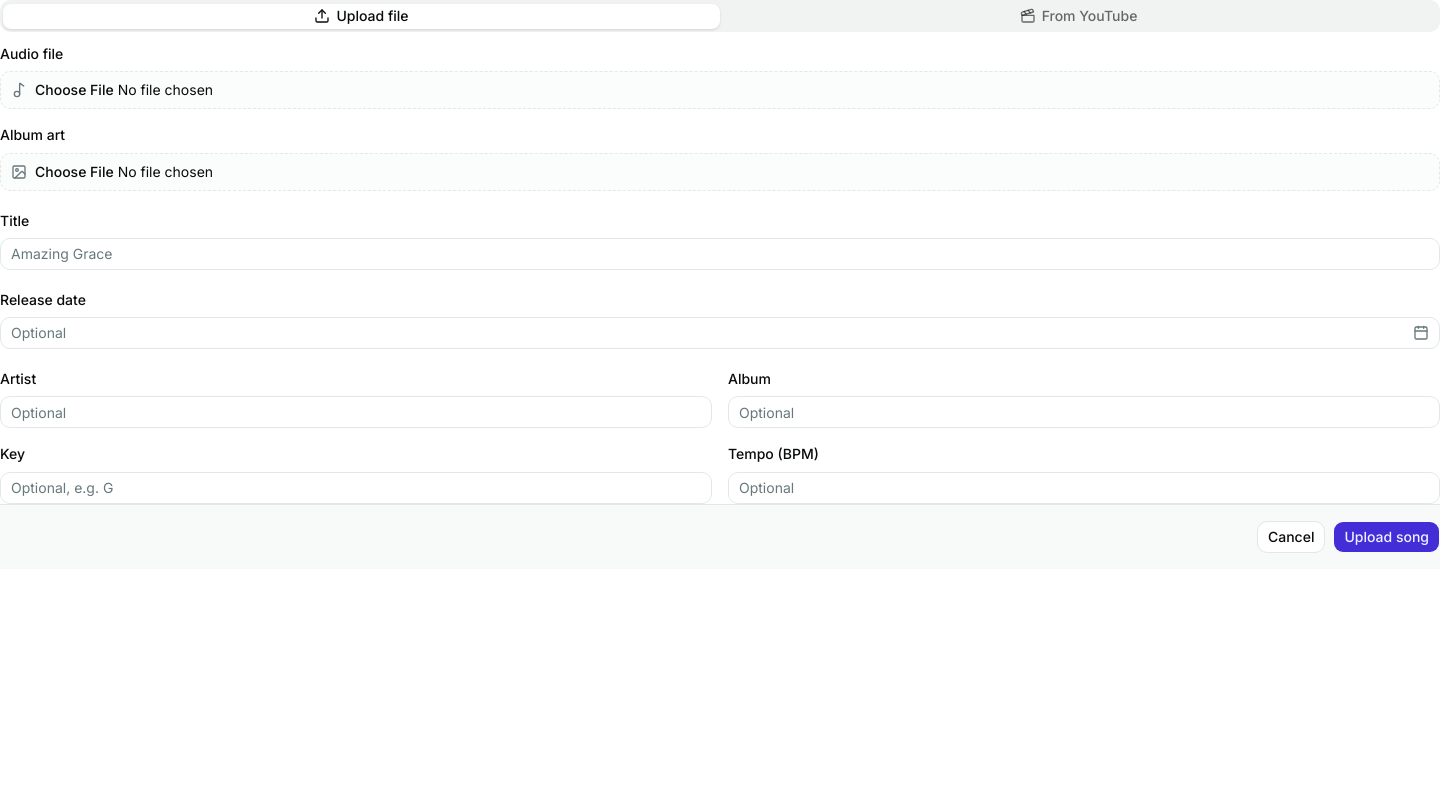
Test: SongUploadForm › clears the release date when the same day is clicked again
Click the button named "Release date": point(39, 332) x1=0 y1=317 x2=1439 y2=349
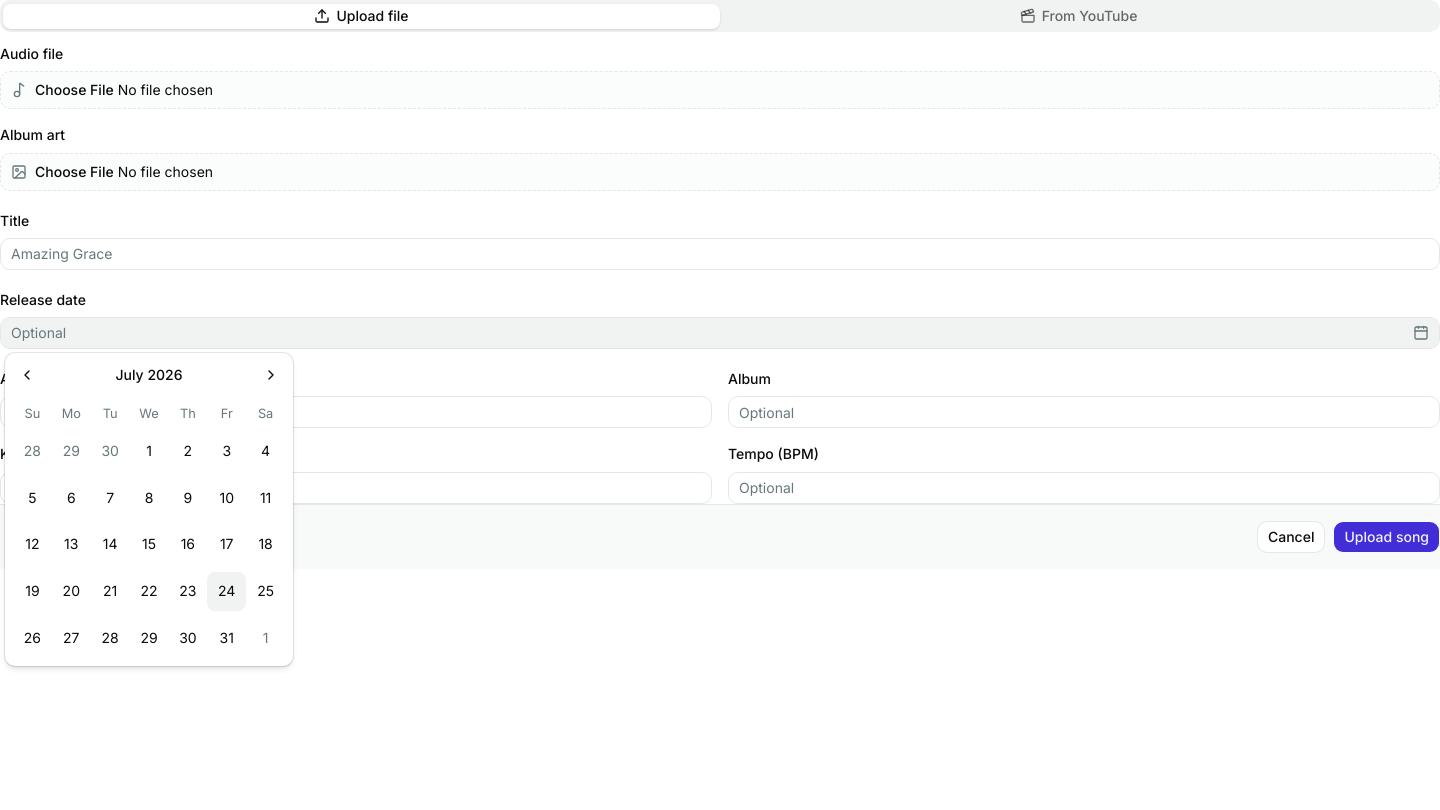
expect the table is shown: met, box x1=13 y1=405 x2=285 y2=658
Click the button "15": point(149, 544) x1=130 y1=525 x2=168 y2=564
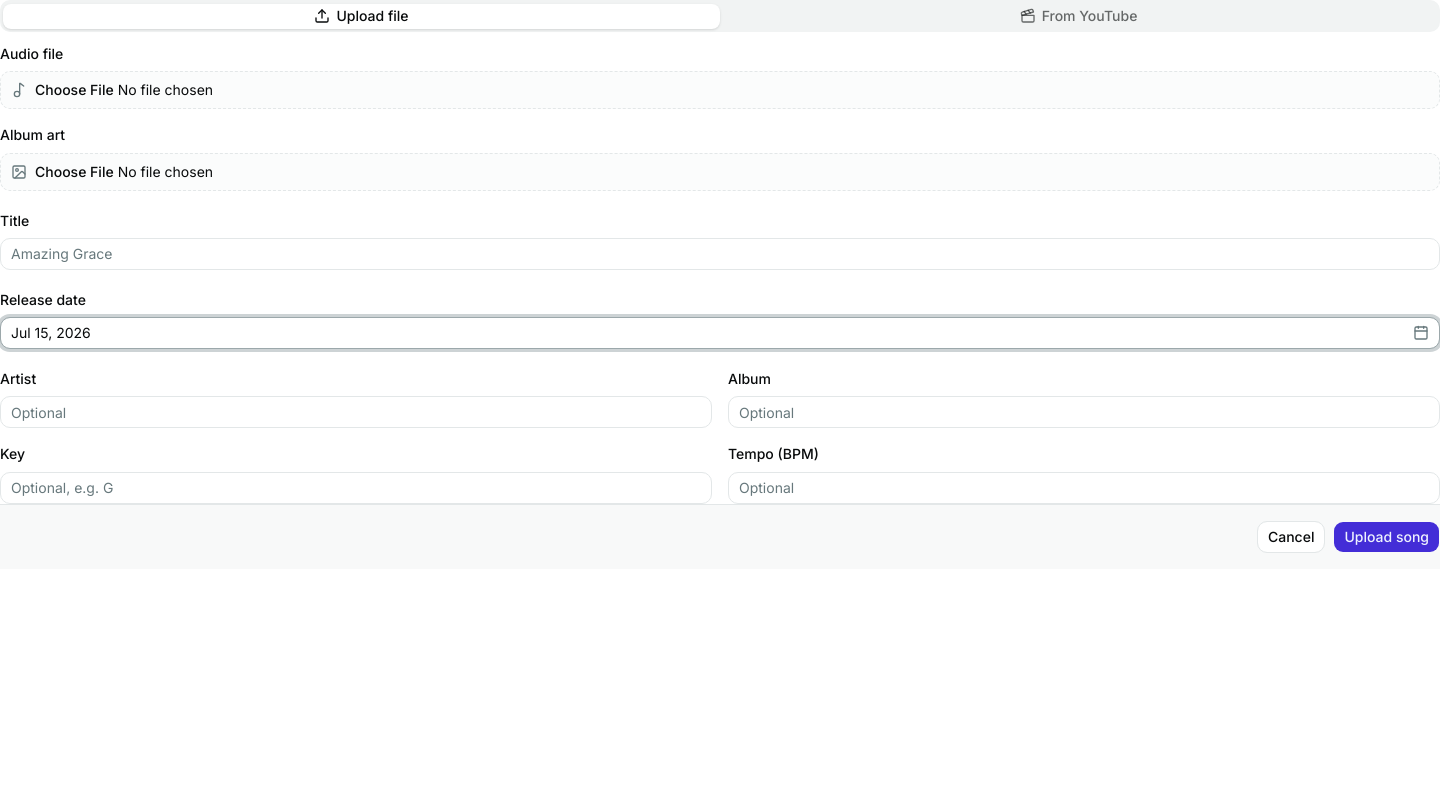
expect the button named "Release date" reads "Jul 15, 2026": met
Click the button named "Release date": point(51, 332) x1=0 y1=317 x2=1439 y2=349
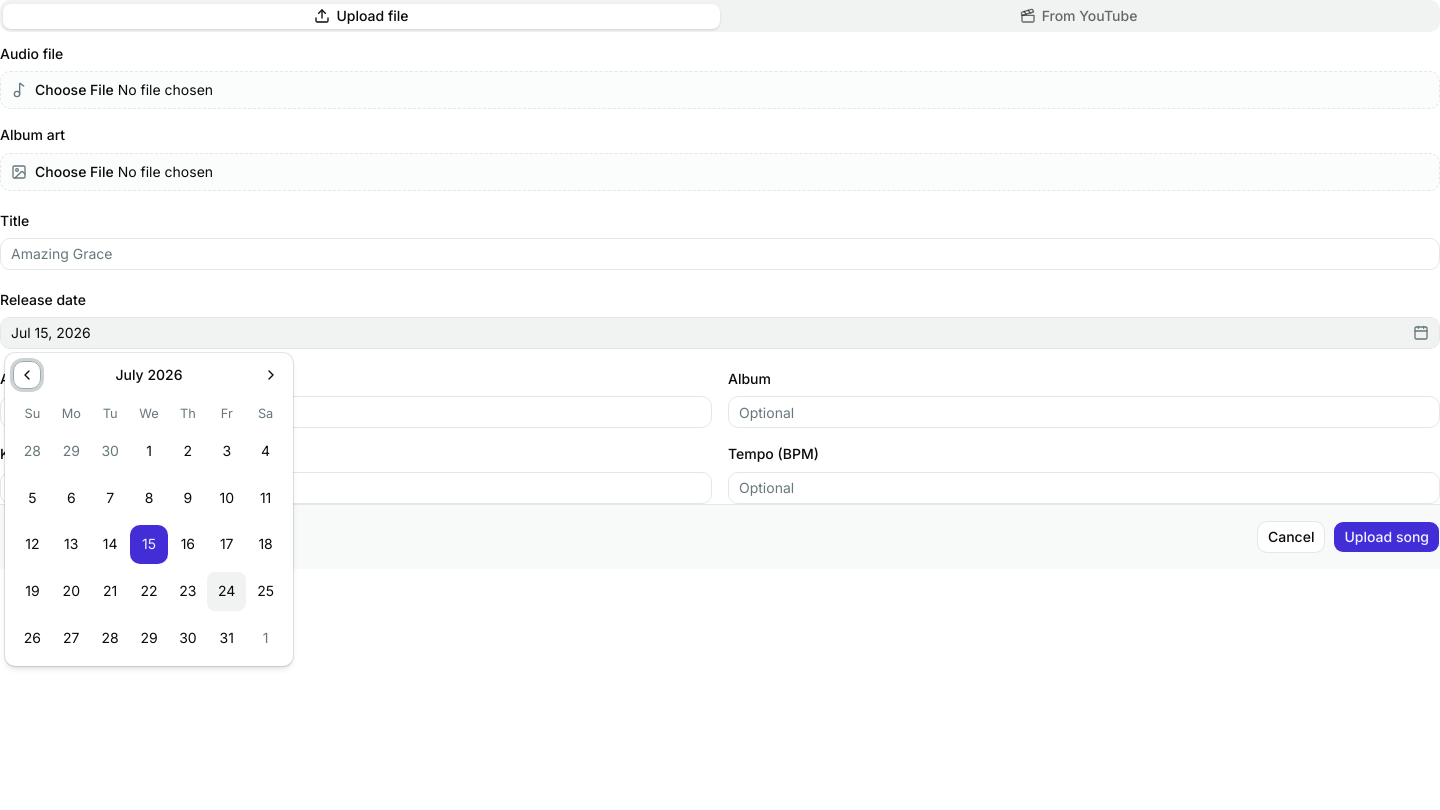
expect the table is shown: met, box x1=13 y1=405 x2=285 y2=658
Click the button "15": point(149, 544) x1=130 y1=525 x2=168 y2=564
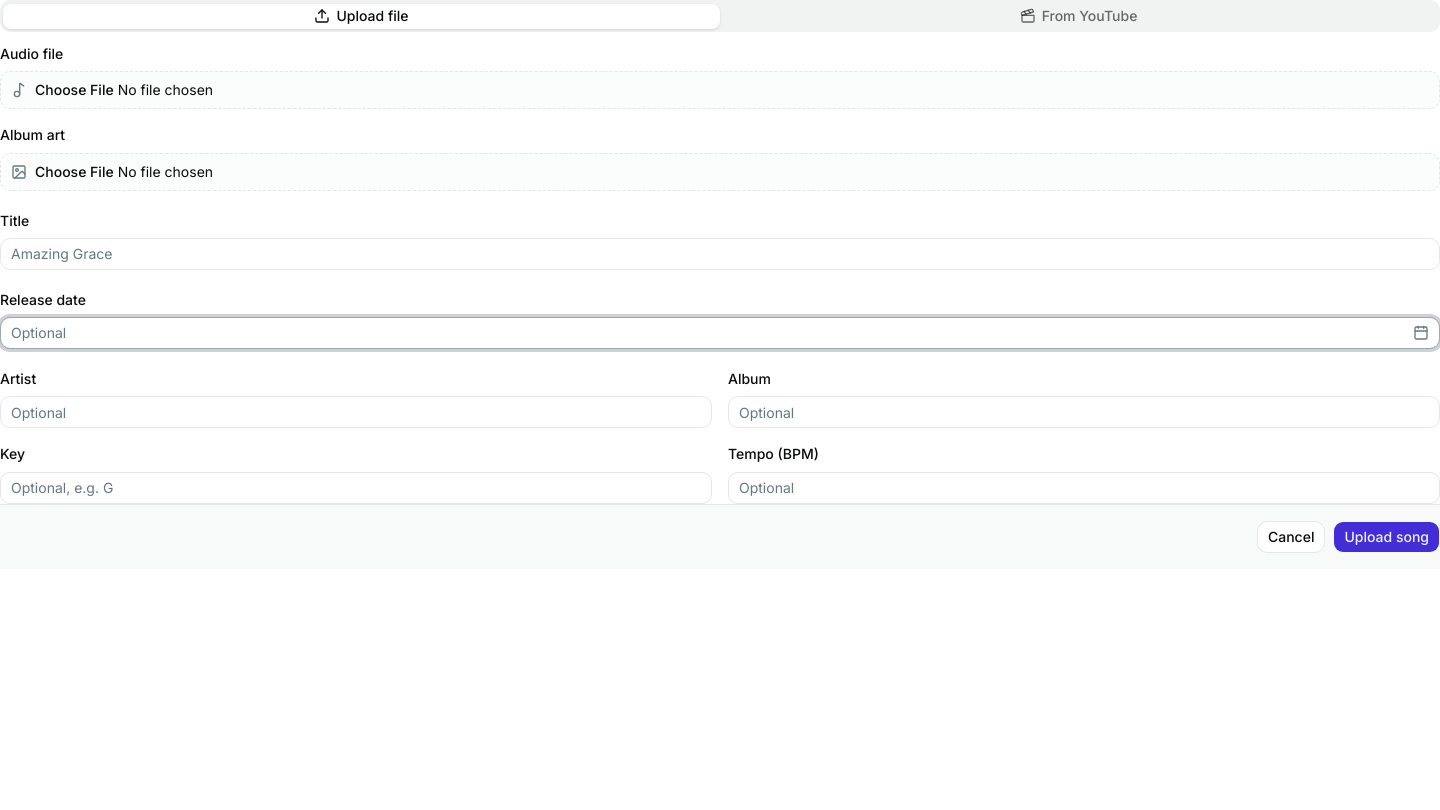
expect the button named "Release date" reads "Optional": met, box x1=0 y1=317 x2=1439 y2=349
